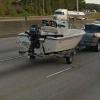Boat: (14, 18, 90, 59)
